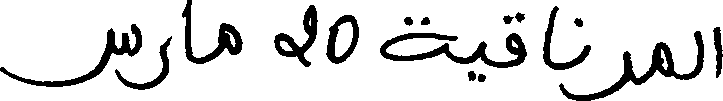0: (322, 13, 358, 64)
2: (272, 3, 316, 67)
ا: (541, 4, 556, 70), (182, 0, 192, 63), (713, 24, 721, 77)
ة: (378, 14, 448, 61)
ر: (588, 43, 633, 99), (139, 28, 167, 89)
س: (0, 22, 142, 90)
ق: (504, 10, 527, 68)
ل: (691, 28, 704, 78)
م: (649, 39, 672, 77), (219, 20, 243, 55)
ن: (566, 15, 590, 77)
ي: (466, 38, 487, 84)
